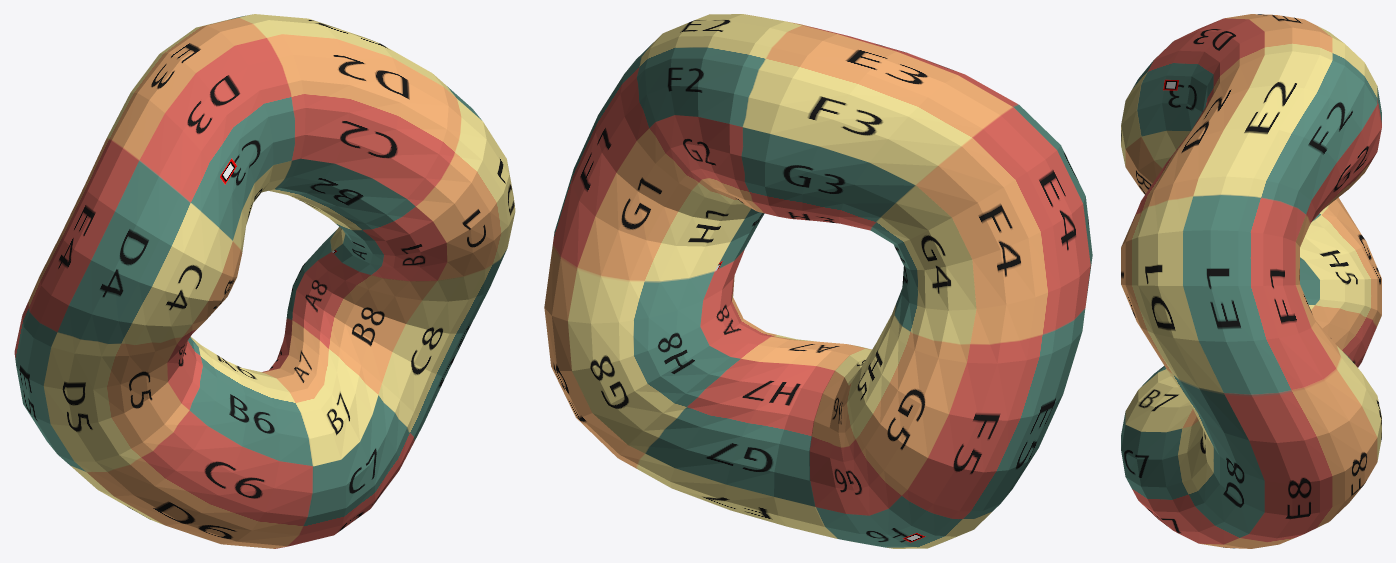
3 renders of one model, left to right at view 1: azimuth 30°, elevation 25°; view 2: azimuth 150°, elevation 25°; view 3: azimuth 270°, elevation 25°, orthographic. The views are drawn at different scales.
Parts seen in each view (by area): view 1: Node-Mesh; view 2: Node-Mesh; view 3: Node-Mesh.
Boxes of the visible parts, bbox=[...] form: Node-Mesh: bbox=[14, 14, 515, 548]; Node-Mesh: bbox=[544, 14, 1092, 548]; Node-Mesh: bbox=[1121, 14, 1381, 548].
Bounding box in the file's own units: 3 × 2.98 × 1.46.
Materials: 1 (1 with a texture image).
